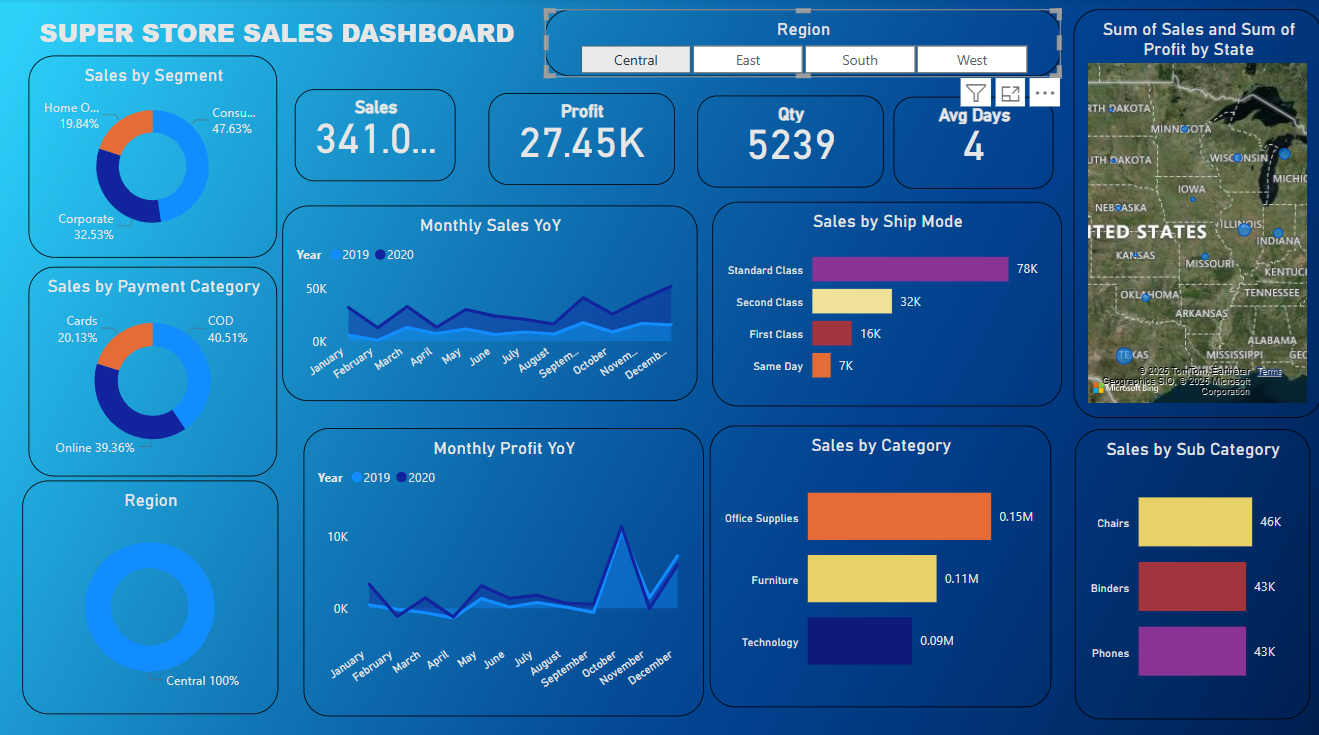

The dashboard page shown, as its layout file describes it:
{"tool":"powerbi","page":{"name":"Dashboard","canvas":[1280,720],"ordinal":0},"visuals":[{"type":"clusteredBarChart","title":"Sales by Category","fields":{"Y":["Sum(SuperStore_Sales_Dataset.Sales)"],"Category":["SuperStore_Sales_Dataset.Category"]},"box":[688.8,413,329.5,271.7],"z":0},{"type":"clusteredBarChart","title":"Sales by Sub Category","fields":{"Y":["Sum(SuperStore_Sales_Dataset.Sales)"],"Category":["SuperStore_Sales_Dataset.Sub-Category"]},"box":[1041.2,415.7,226.9,279.8],"z":1000},{"type":"clusteredBarChart","title":"Sales by Ship Mode","fields":{"Y":["Sum(SuperStore_Sales_Dataset.Sales)"],"Category":["SuperStore_Sales_Dataset.Ship Mode"]},"box":[691.5,197.2,337.6,197.4],"z":2000},{"type":"stackedAreaChart","title":"Monthly Profit YoY","fields":{"Category":["SuperStore_Sales_Dataset.Order Date.Variation.Date Hierarchy.Month"],"Series":["SuperStore_Sales_Dataset.Order Date.Variation.Date Hierarchy.Year"],"Y":["Sum(SuperStore_Sales_Dataset.Profit)"]},"box":[296.3,414.9,386.2,278.2],"z":3000},{"type":"stackedAreaChart","title":"Monthly Sales YoY","fields":{"Y":["Sum(SuperStore_Sales_Dataset.Sales)"],"Category":["SuperStore_Sales_Dataset.Order Date.Variation.Date Hierarchy.Month"],"Series":["SuperStore_Sales_Dataset.Order Date.Variation.Date Hierarchy.Year"]},"box":[276.9,199.9,401.1,188.5],"z":4000},{"type":"map","fields":{"Category":["SuperStore_Sales_Dataset.State"],"Size":["Sum(SuperStore_Sales_Dataset.Sales)"]},"box":[1039.9,10.8,240.4,394.3],"z":5000},{"type":"donutChart","title":"Sales by Segment","fields":{"Category":["SuperStore_Sales_Dataset.Segment"],"Y":["Sum(SuperStore_Sales_Dataset.Sales)"]},"box":[31.1,55.4,240.4,195.6],"z":6000},{"type":"donutChart","title":"Sales by Payment Category","fields":{"Y":["Sum(SuperStore_Sales_Dataset.Sales)"],"Category":["SuperStore_Sales_Dataset.Payment Mode"]},"box":[31.1,259.8,240.4,202],"z":7000},{"type":"slicer","title":"Region","fields":{"Values":["SuperStore_Sales_Dataset.Region"]},"box":[529.4,10.8,498.3,64.8],"z":8000},{"type":"textbox","box":[14.9,10.8,513.2,54],"z":9000},{"type":"card","title":"Profit","fields":{"Values":["Sum(SuperStore_Sales_Dataset.Profit)"]},"box":[475.9,91.6,179.6,89.1],"z":10000},{"type":"card","title":"Qty","fields":{"Values":["Sum(SuperStore_Sales_Dataset.Quantity)"]},"box":[676.6,93.7,179.6,89.1],"z":11000},{"type":"card","title":"Avg Days","fields":{"Values":["Avg(SuperStore_Sales_Dataset.AvgDelivery)"]},"box":[865.7,95.9,154.8,89.1],"z":12000},{"type":"card","title":"Sales","fields":{"Values":["Sum(SuperStore_Sales_Dataset.Sales)"]},"box":[288.2,88.3,155.3,89.1],"z":13000},{"type":"donutChart","title":"Region","fields":{"Y":["Sum(SuperStore_Sales_Dataset.Sales)"],"Category":["SuperStore_Sales_Dataset.Region"]},"box":[25.7,465.9,246.9,225.5],"z":14000}]}

Visuals, with their boxes in screenshot pixels (x1, y1, x2, y2), scaled from the page's 1280x720 canvas onto the 1319x735 screenshot:
"Sales by Category" clusteredBarChart: l=710, t=422, r=1049, b=699
"Sales by Sub Category" clusteredBarChart: l=1073, t=424, r=1307, b=710
"Sales by Ship Mode" clusteredBarChart: l=713, t=201, r=1060, b=403
"Monthly Profit YoY" stackedAreaChart: l=305, t=424, r=703, b=708
"Monthly Sales YoY" stackedAreaChart: l=285, t=204, r=699, b=396
map - SuperStore_Sales_Dataset.State x Sum(SuperStore_Sales_Dataset.Sales): l=1072, t=11, r=1318, b=414
"Sales by Segment" donutChart: l=32, t=57, r=280, b=256
"Sales by Payment Category" donutChart: l=32, t=265, r=280, b=471
"Region" slicer: l=546, t=11, r=1059, b=77
textbox: l=15, t=11, r=544, b=66
"Profit" card: l=490, t=94, r=675, b=184
"Qty" card: l=697, t=96, r=882, b=187
"Avg Days" card: l=892, t=98, r=1052, b=189
"Sales" card: l=297, t=90, r=457, b=181
"Region" donutChart: l=26, t=476, r=281, b=706
